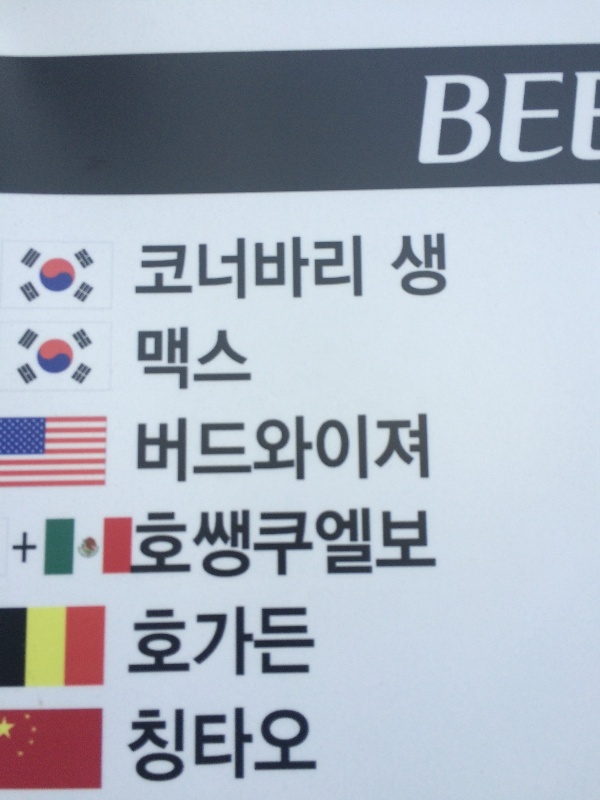text: (433, 55, 448, 180), (449, 55, 464, 180), (465, 55, 480, 180), (481, 55, 496, 180), (497, 55, 512, 180), (513, 55, 528, 180), (529, 55, 544, 180), (545, 55, 560, 180), (561, 55, 576, 180), (577, 55, 592, 180), (129, 698, 144, 795), (145, 698, 160, 795), (161, 698, 176, 795), (177, 698, 192, 795), (193, 698, 208, 795), (209, 698, 224, 795), (225, 698, 240, 795), (241, 698, 256, 795), (257, 698, 272, 795), (273, 698, 288, 795), (289, 698, 304, 795), (305, 698, 320, 795), (129, 597, 144, 692), (145, 597, 160, 692), (161, 597, 176, 692), (177, 597, 192, 692), (193, 597, 208, 692), (209, 597, 224, 692), (225, 597, 240, 692), (241, 597, 256, 692), (257, 597, 272, 692), (273, 597, 288, 692), (289, 597, 304, 692), (305, 597, 320, 692), (421, 55, 432, 180), (129, 401, 144, 491), (145, 401, 160, 491), (161, 401, 176, 491), (177, 401, 192, 491), (193, 401, 208, 491), (209, 401, 224, 491), (225, 401, 240, 491), (241, 401, 256, 491), (257, 401, 272, 491), (273, 401, 288, 491), (289, 401, 304, 491), (305, 401, 320, 491), (321, 401, 336, 491), (337, 401, 352, 491), (353, 401, 368, 491), (369, 401, 384, 491), (385, 401, 400, 491), (401, 401, 416, 491), (417, 401, 432, 491), (353, 233, 369, 315), (401, 225, 416, 312), (417, 225, 432, 312), (433, 225, 448, 312), (145, 503, 160, 590), (161, 503, 176, 590), (177, 503, 192, 590), (193, 503, 208, 590), (209, 503, 224, 590), (225, 503, 240, 590), (241, 503, 256, 590), (257, 503, 272, 590), (273, 503, 288, 590), (289, 503, 304, 590), (305, 503, 320, 590), (321, 503, 336, 590), (337, 503, 352, 590), (353, 503, 368, 590), (369, 503, 384, 590), (385, 503, 400, 590), (401, 503, 416, 590), (417, 503, 432, 590), (145, 320, 160, 403), (161, 320, 176, 403), (177, 320, 192, 403), (193, 320, 208, 403), (209, 320, 224, 403), (225, 320, 240, 403), (241, 320, 256, 403), (145, 233, 160, 315), (161, 233, 176, 315), (177, 233, 192, 315), (193, 233, 208, 315), (209, 233, 224, 315), (225, 233, 240, 315), (241, 233, 256, 315), (257, 233, 272, 315), (273, 233, 288, 315), (289, 233, 304, 315), (305, 233, 320, 315), (321, 233, 336, 315), (337, 233, 352, 315), (130, 320, 144, 403), (387, 225, 400, 312), (132, 503, 144, 590), (593, 55, 600, 180), (134, 233, 144, 315), (433, 503, 441, 590), (124, 698, 128, 795), (321, 698, 324, 795), (449, 225, 452, 312), (126, 597, 128, 692), (433, 401, 434, 491), (257, 320, 258, 403)
